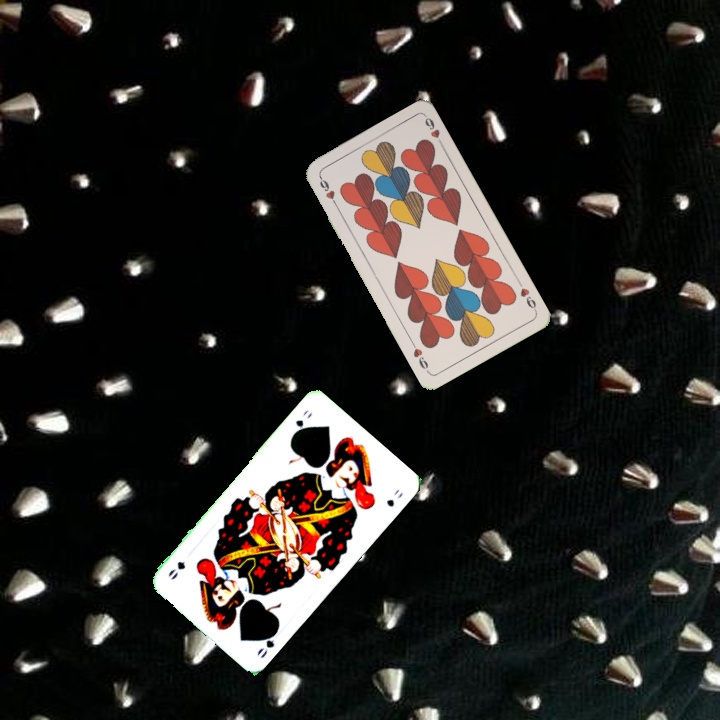GO: (253, 624, 281, 661), (288, 405, 315, 439)
H9: (315, 172, 341, 210), (514, 277, 539, 314)
